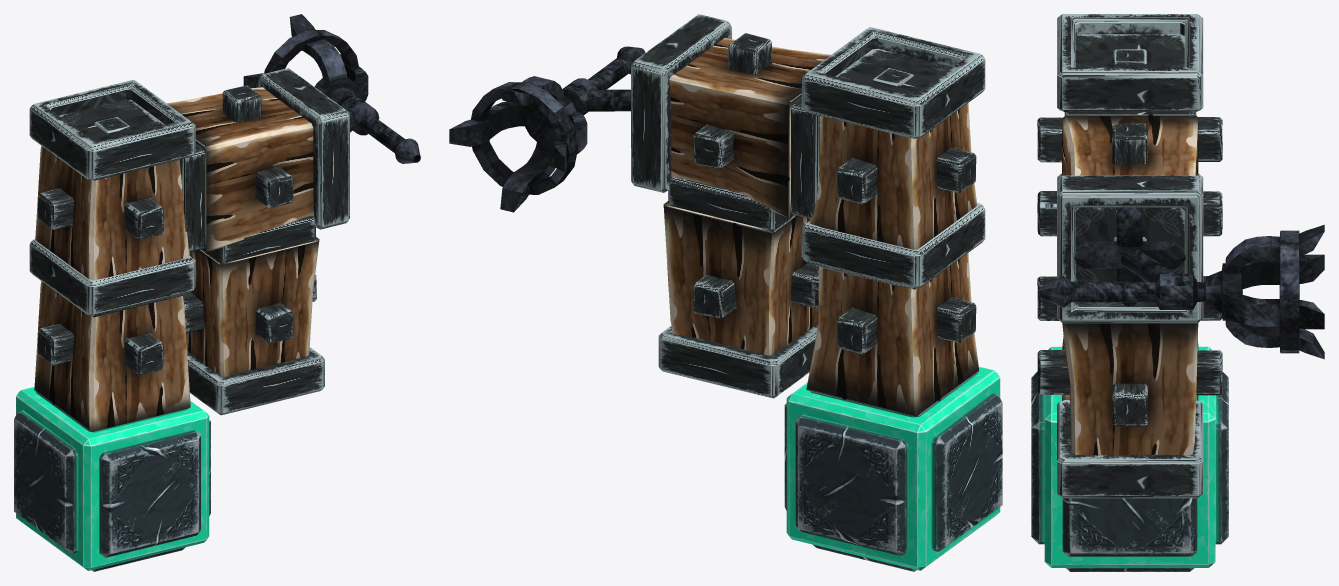
File: step_011.glb
3 renders of one model, left to right at view 1: azimuth 30°, elevation 25°; view 2: azimuth 150°, elevation 25°; view 3: azimuth 270°, elevation 25°, orthographic. The views are drawn at different scales.
Parts seen in each view (by area): view 1: SingleWoodenBlock_c4f265ad-6399-45ad-a71c-d23891248bc4, StartingBlock_54787111-893b-4fae-81f2-2bd6027e068a, Torch_215d0cb5-9910-4dbf-8db2-5c3035c5e3d0; view 2: SingleWoodenBlock_c4f265ad-6399-45ad-a71c-d23891248bc4, StartingBlock_54787111-893b-4fae-81f2-2bd6027e068a, Torch_215d0cb5-9910-4dbf-8db2-5c3035c5e3d0; view 3: SingleWoodenBlock_c4f265ad-6399-45ad-a71c-d23891248bc4, StartingBlock_54787111-893b-4fae-81f2-2bd6027e068a, Torch_215d0cb5-9910-4dbf-8db2-5c3035c5e3d0.
Part boxes in pixels (bbox=[...]): SingleWoodenBlock_c4f265ad-6399-45ad-a71c-d23891248bc4: bbox=[29, 68, 349, 431]; StartingBlock_54787111-893b-4fae-81f2-2bd6027e068a: bbox=[14, 386, 210, 571]; Torch_215d0cb5-9910-4dbf-8db2-5c3035c5e3d0: bbox=[243, 14, 420, 163]; SingleWoodenBlock_c4f265ad-6399-45ad-a71c-d23891248bc4: bbox=[631, 14, 985, 416]; StartingBlock_54787111-893b-4fae-81f2-2bd6027e068a: bbox=[784, 366, 1002, 571]; Torch_215d0cb5-9910-4dbf-8db2-5c3035c5e3d0: bbox=[449, 46, 645, 212]; SingleWoodenBlock_c4f265ad-6399-45ad-a71c-d23891248bc4: bbox=[1037, 14, 1222, 498]; StartingBlock_54787111-893b-4fae-81f2-2bd6027e068a: bbox=[1031, 346, 1228, 571]; Torch_215d0cb5-9910-4dbf-8db2-5c3035c5e3d0: bbox=[1039, 207, 1324, 359].
Size of the model in its own units: 3.02 by 3.17 by 1.67.
Materials: 3 (3 with a texture image).
